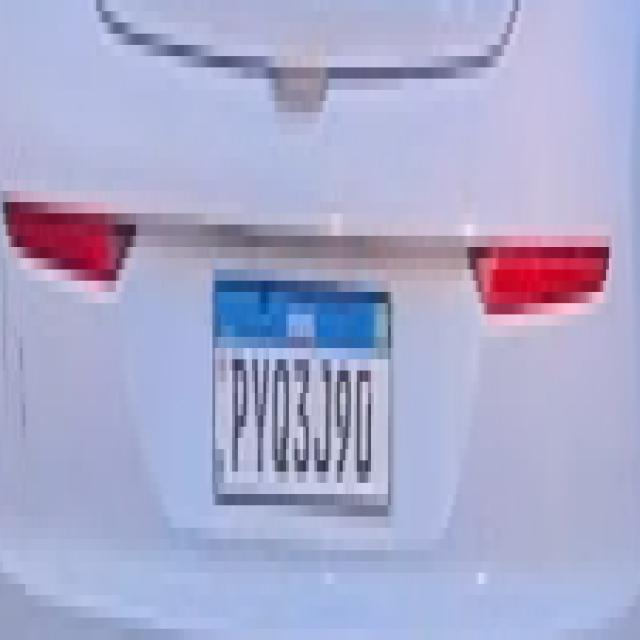Placa_mercosul_carro: (213, 269, 392, 519)
